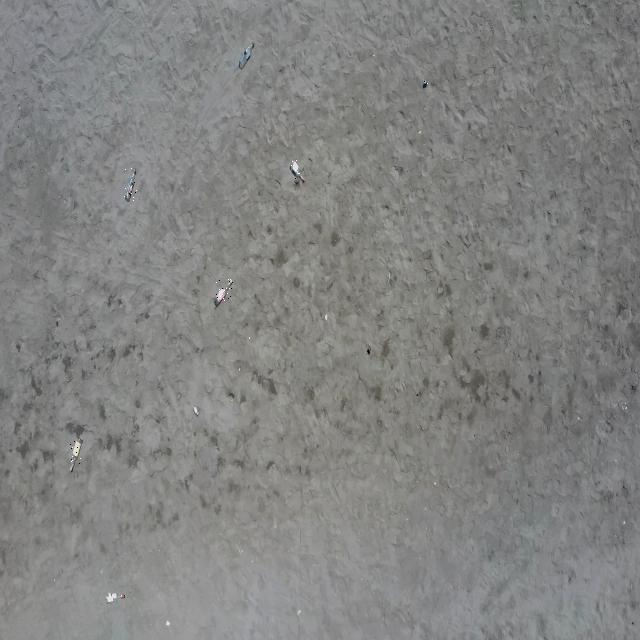glass: (215, 279, 233, 304), (124, 167, 137, 201), (70, 436, 82, 471), (239, 41, 255, 67), (291, 160, 305, 182), (104, 594, 124, 604), (192, 405, 200, 416), (424, 78, 428, 86)
